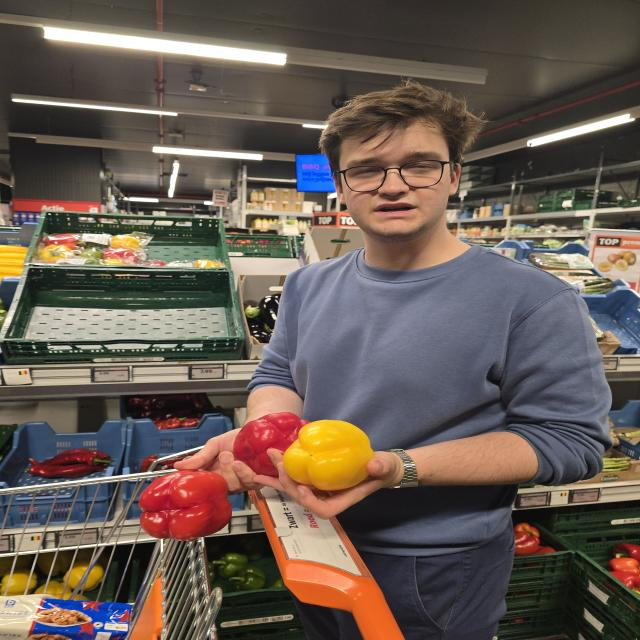Bell Pepper: (283, 420, 374, 491), (139, 471, 231, 540), (233, 412, 309, 477)
